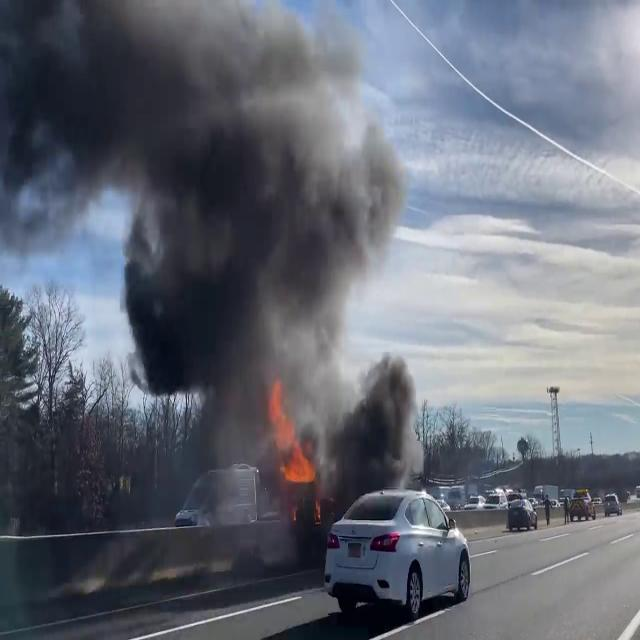Fire: (268, 384, 318, 488)
Smoke: (0, 1, 412, 403), (314, 340, 433, 520)
